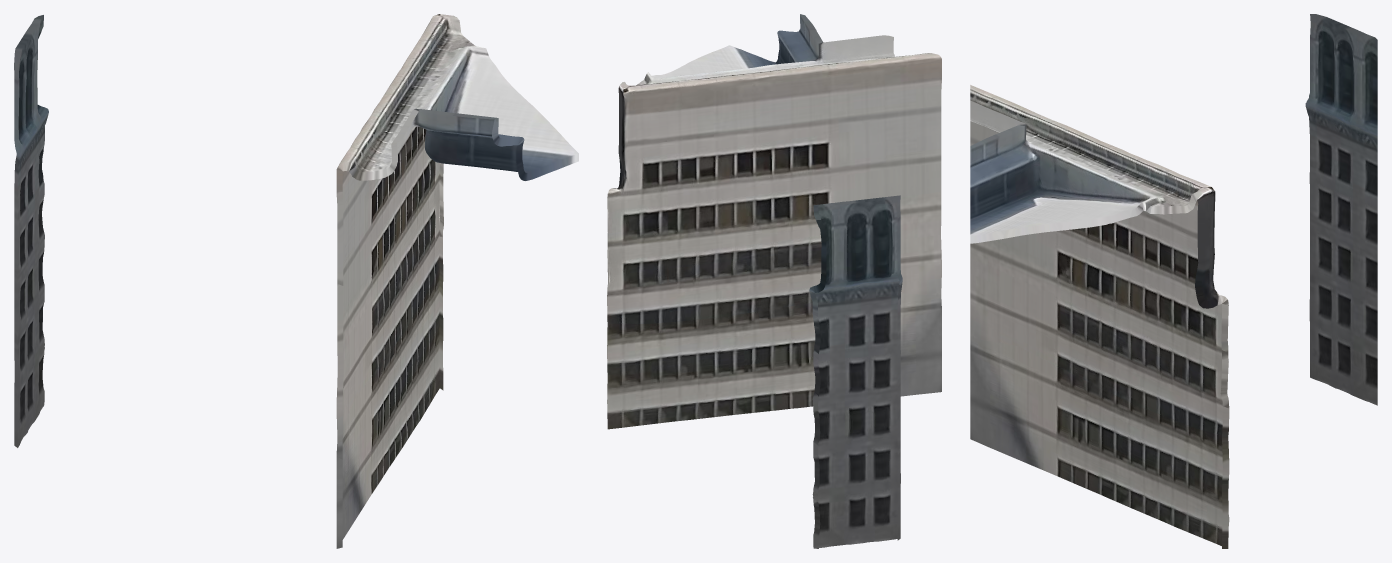
The model's file is z20-167783-405230-h1-yup-uvflip-v3-world.glb.
The picture shows the model from 3 angles, left to right: view 1: azimuth 30°, elevation 25°; view 2: azimuth 150°, elevation 25°; view 3: azimuth 270°, elevation 25°; orthographic projection. The views are drawn at different scales.
Bounding box in the file's own units: 30.16 × 29.84 × 30.32.
Materials: 1 (1 with a texture image).
